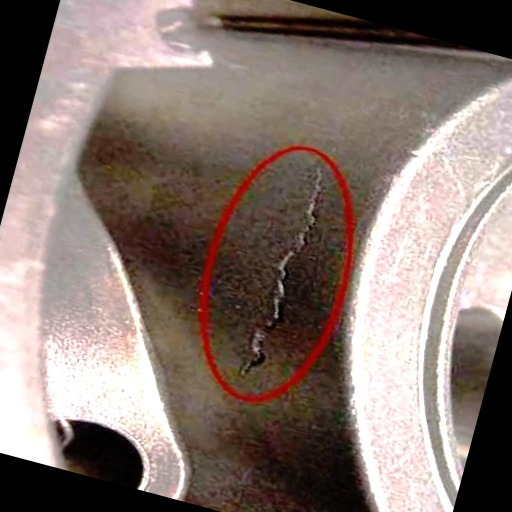crack: (232, 147, 341, 392)
